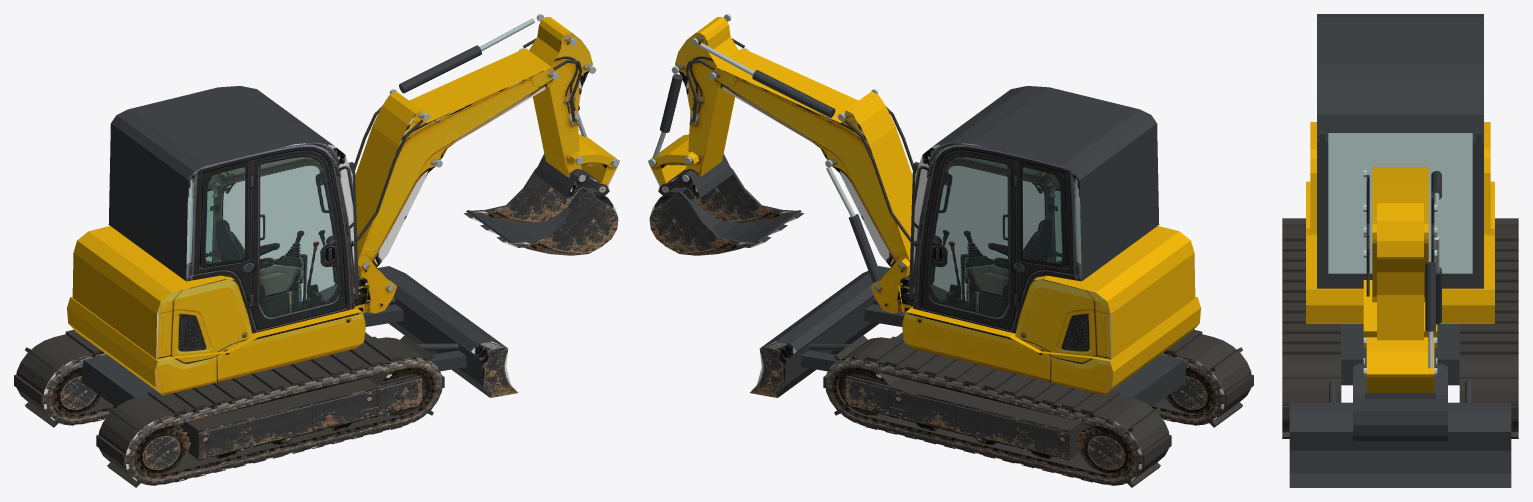
File: cz_excavator.glb
3 views of the same model, side by side, from view 1: azimuth 30°, elevation 25°; view 2: azimuth 150°, elevation 25°; view 3: azimuth 270°, elevation 25° (orthographic). The views are drawn at different scales.
Parts seen in each view (by area): view 1: cz_excavator; view 2: cz_excavator; view 3: cz_excavator.
Boxes of the visible parts, x1,y1,x2,y2 form: cz_excavator: [14, 14, 619, 487]; cz_excavator: [648, 14, 1253, 487]; cz_excavator: [1282, 14, 1518, 487].
Bounding box in the file's own units: 4.51 × 2.5 × 1.6.
Materials: 4 (2 with a texture image).
